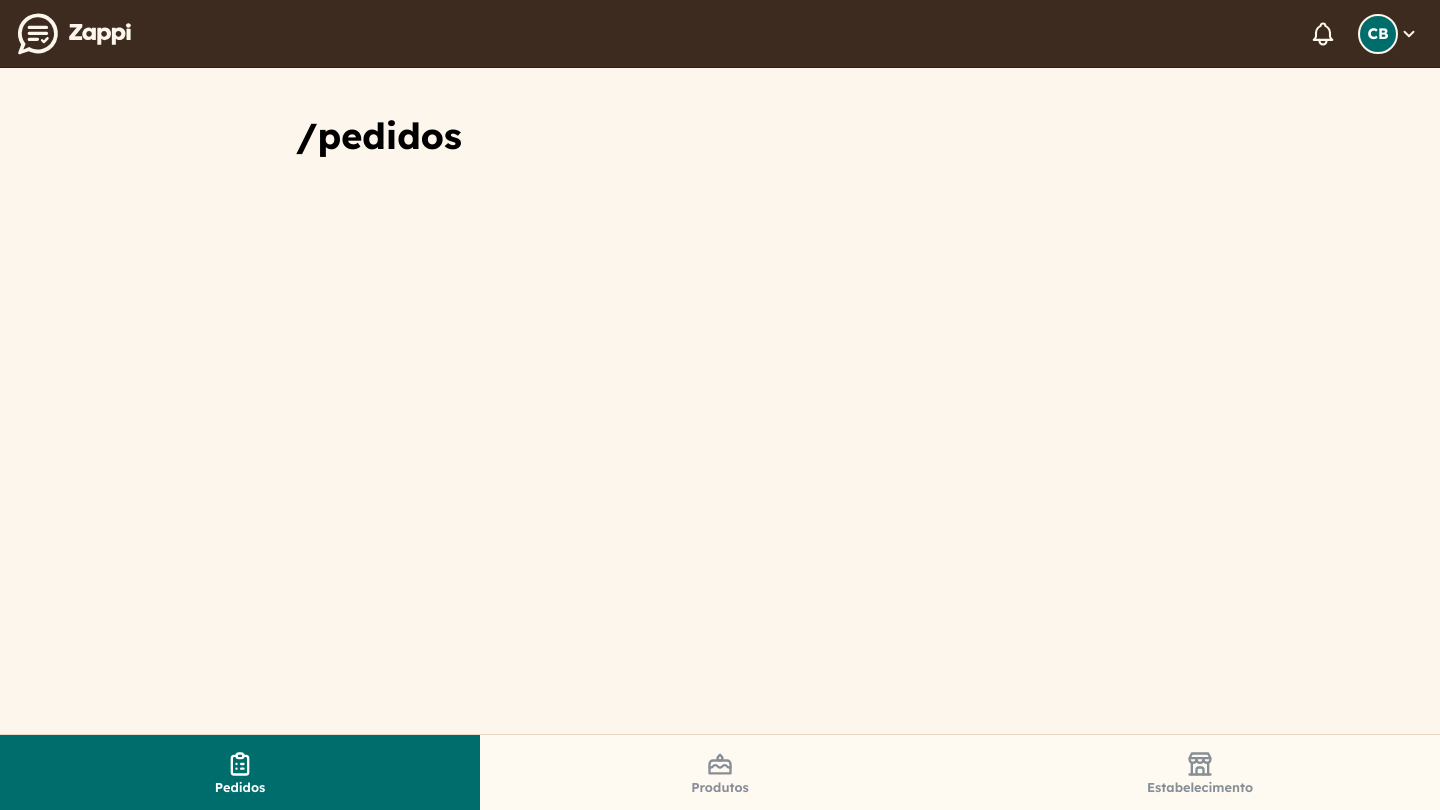
termos no rodapé da caixinha da conta (ZAP-147) › com os termos, os dois links ficam depois do Sair, chegam pelas setas e o Esc fecha
The width and height of the screenshot is (1440, 810).
Expected: the text "CB" is shown, [1358,14,1398,54]
Click the button with aria-label "Minha conta" at point(1388, 34), box [1352,10,1424,58]
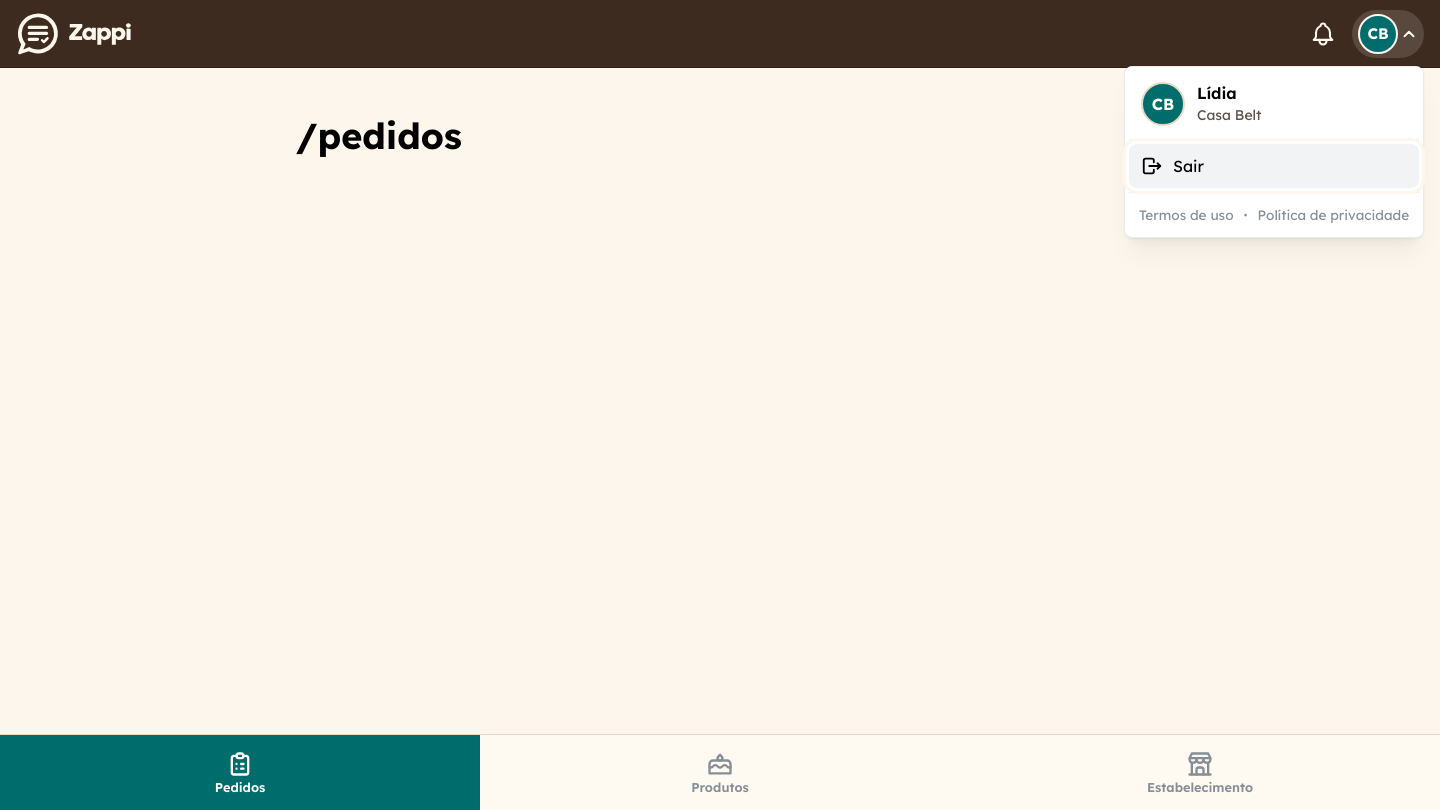
Expected: the menu item "Termos de uso" is shown, [1139,206,1234,224]
Expected: the menu items read "Sair", "Termos de uso", "Política de privacidade", in this order, [1129,144,1419,188]; [1139,206,1234,224]; [1258,206,1409,224]
Press Arrowdown
Press Arrowdown
Press Escape
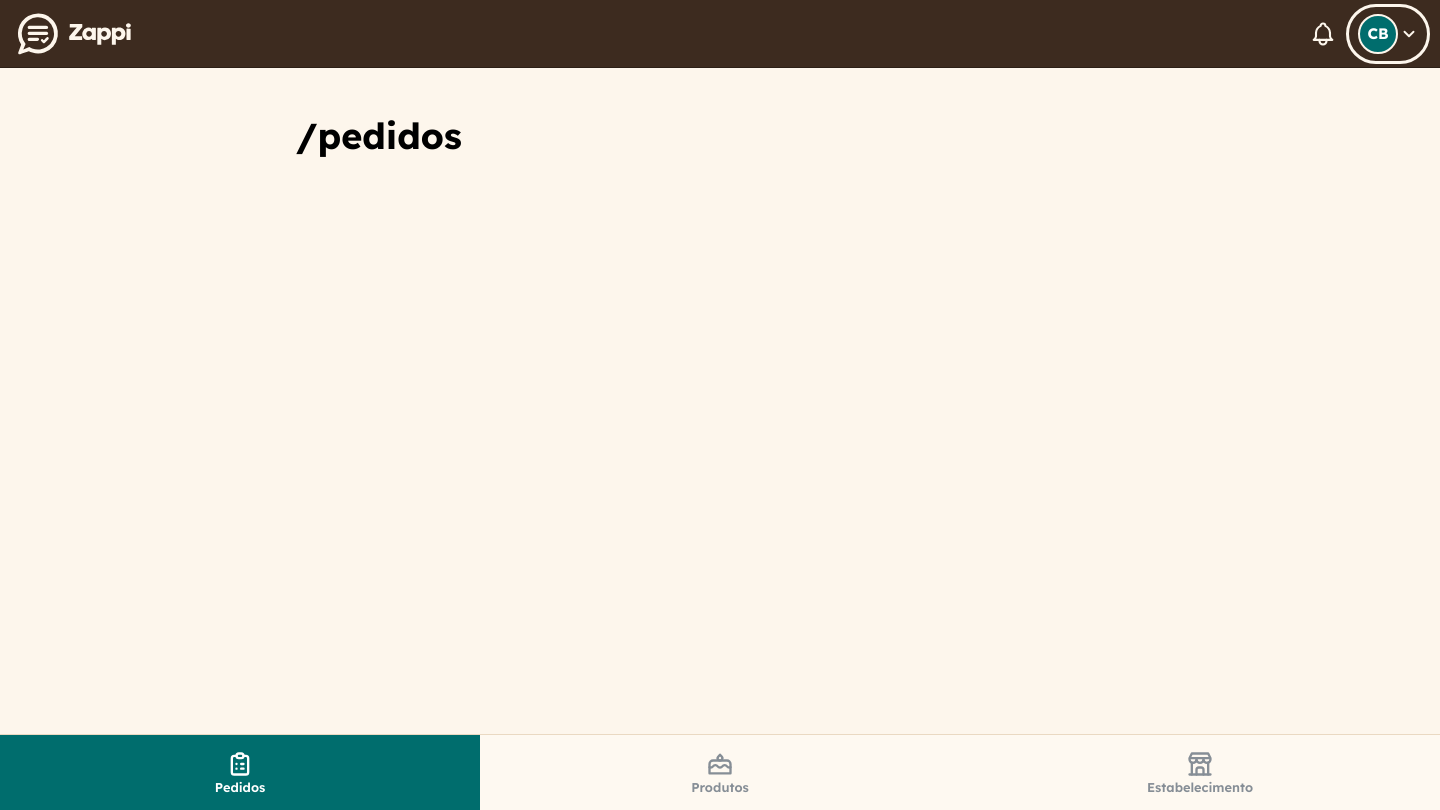
Expected: the menu is gone
